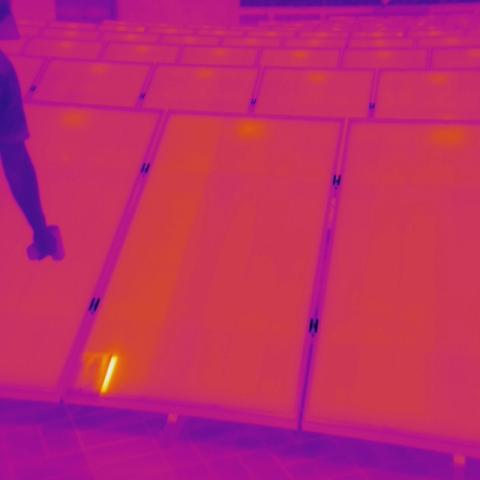fault: (76, 352, 120, 393)
